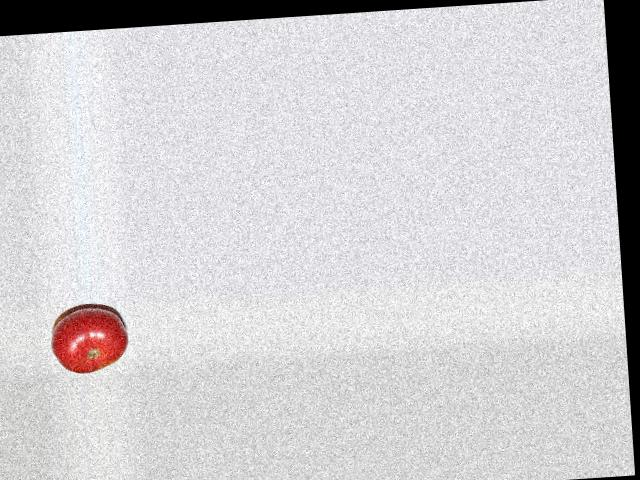tomato: (48, 307, 130, 375)
